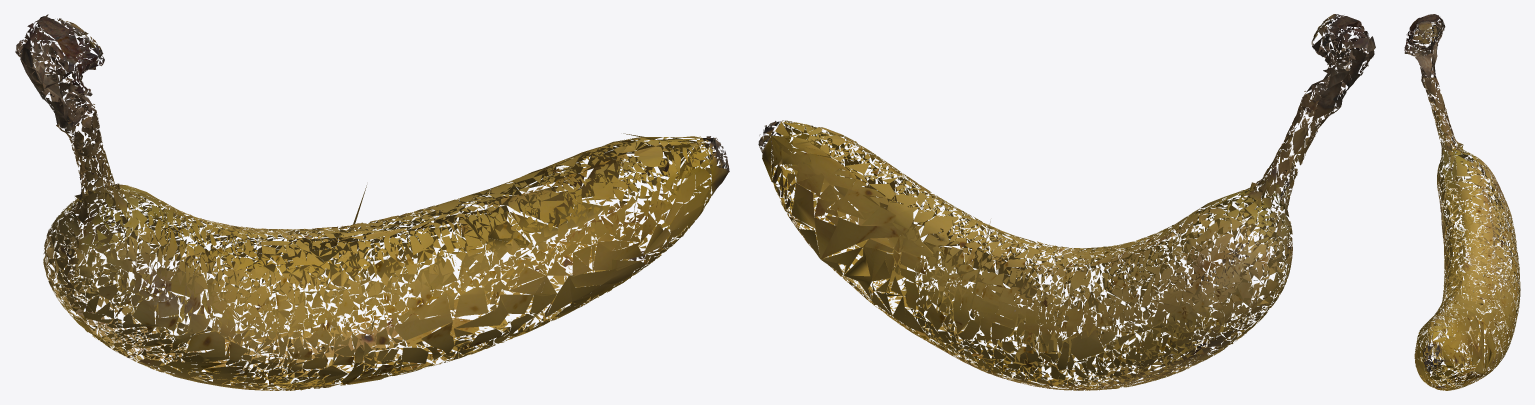
Rendered from banana.glb.
3 renders of one model, left to right at view 1: azimuth 30°, elevation 25°; view 2: azimuth 150°, elevation 25°; view 3: azimuth 270°, elevation 25°, orthographic. The views are drawn at different scales.
Parts seen in each view (by area): view 1: Object_5, Object_4, Object_3, Object_6, Object_9, Object_7, Object_2, Object_10, Object_8, Object_11; view 2: Object_9, Object_2, Object_10, Object_3, Object_5, Object_4, Object_8, Object_11, Object_6, Object_7; view 3: Object_9, Object_2, Object_10, Object_4, Object_3, Object_6, Object_8, Object_7, Object_5, Object_11.
Part boxes in pixels (bbox=[...]): Object_5: bbox=[229, 145, 690, 390]; Object_4: bbox=[39, 68, 717, 390]; Object_3: bbox=[21, 41, 663, 388]; Object_6: bbox=[50, 143, 729, 390]; Object_9: bbox=[57, 18, 720, 293]; Object_7: bbox=[52, 137, 726, 363]; Object_2: bbox=[21, 14, 722, 334]; Object_10: bbox=[16, 16, 507, 333]; Object_8: bbox=[15, 14, 727, 354]; Object_11: bbox=[21, 40, 723, 351]; Object_9: bbox=[762, 14, 1343, 345]; Object_2: bbox=[758, 18, 1367, 381]; Object_10: bbox=[887, 16, 1361, 381]; Object_3: bbox=[815, 25, 1369, 389]; Object_5: bbox=[793, 125, 1144, 390]; Object_4: bbox=[760, 33, 1368, 390]; Object_8: bbox=[771, 25, 1374, 387]; Object_11: bbox=[763, 25, 1375, 386]; Object_6: bbox=[760, 122, 1291, 390]; Object_7: bbox=[763, 120, 1292, 389]; Object_9: bbox=[1410, 20, 1518, 373]; Object_2: bbox=[1404, 17, 1520, 372]; Object_10: bbox=[1405, 14, 1520, 350]; Object_4: bbox=[1404, 32, 1515, 390]; Object_3: bbox=[1407, 25, 1519, 389]; Object_6: bbox=[1415, 159, 1510, 390]; Object_8: bbox=[1405, 19, 1519, 381]; Object_7: bbox=[1423, 137, 1515, 390]; Object_5: bbox=[1414, 268, 1504, 389]; Object_11: bbox=[1405, 22, 1519, 379].
Size of the model in its own units: 206 by 130 by 53.84.
1 material, 1 textured.
